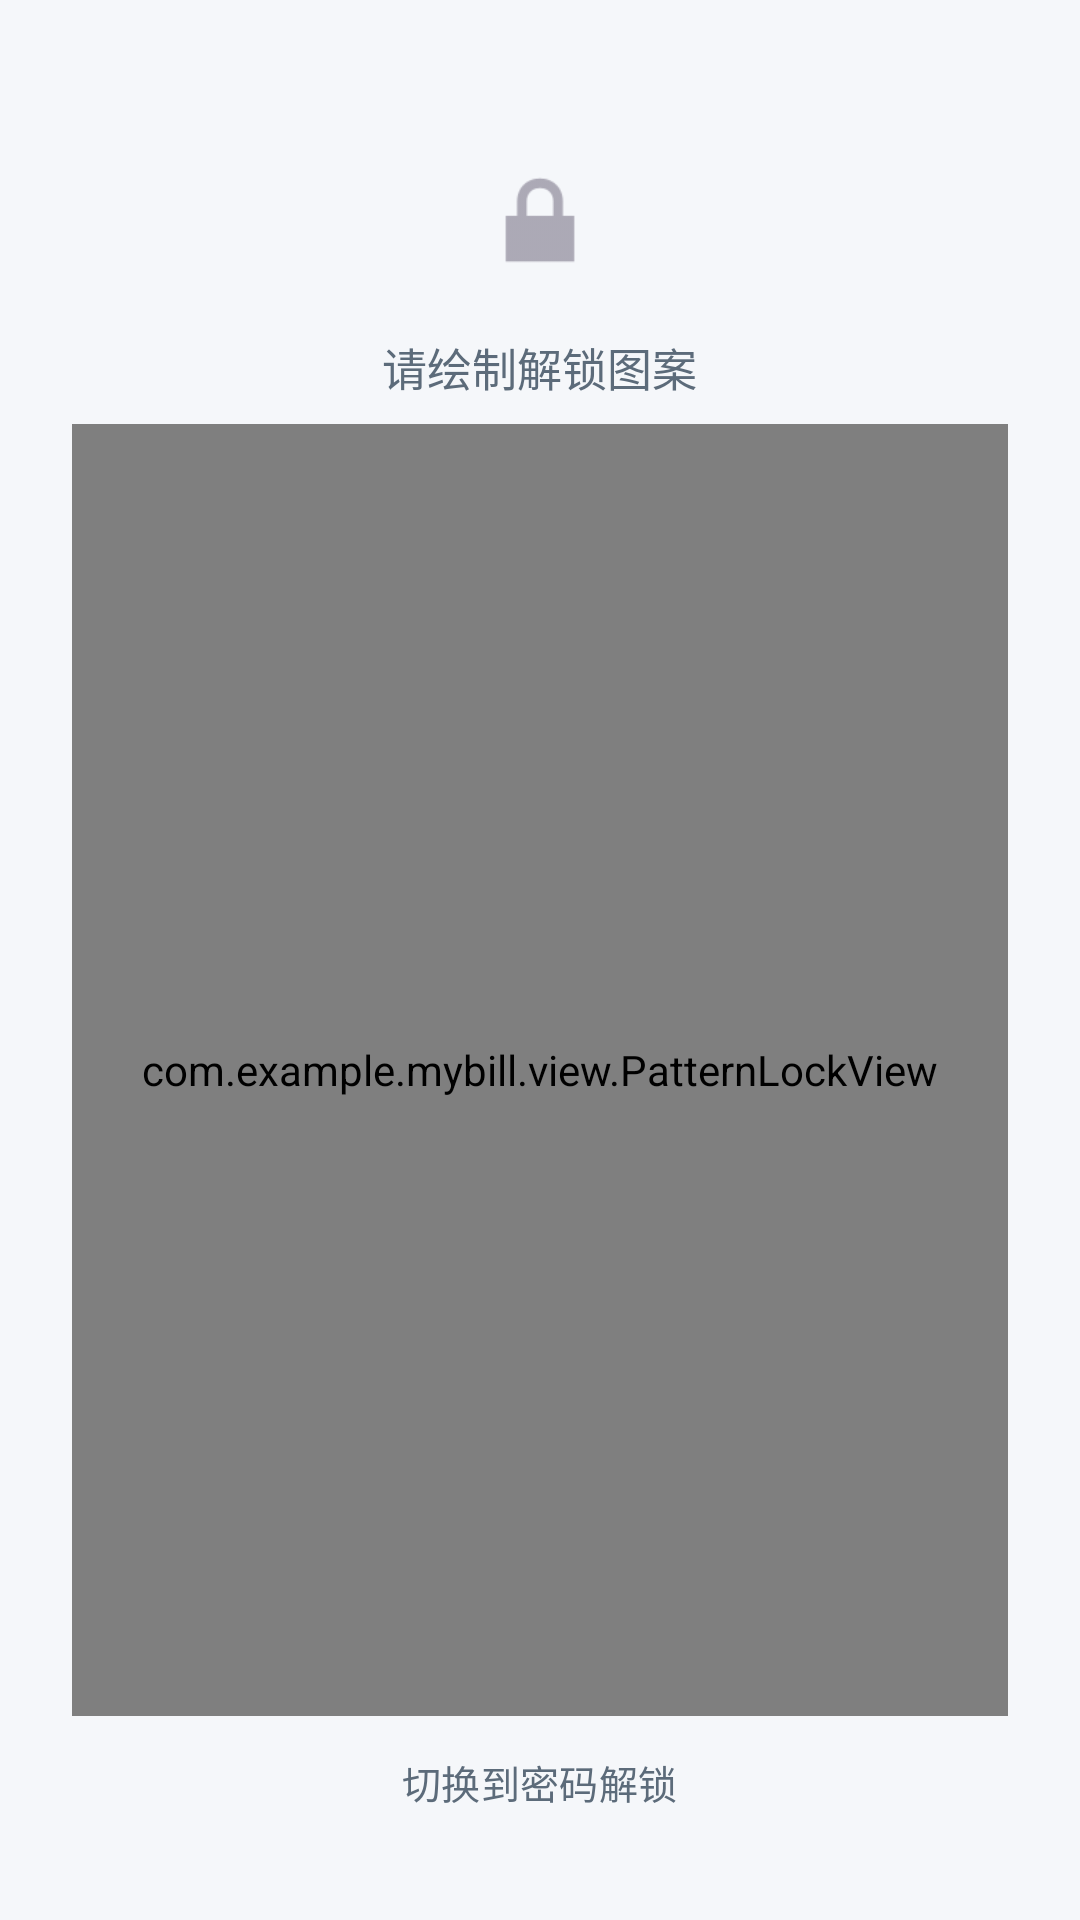

Icon click points for this 1080px×1920px phone screenshot, format [x,y]:
lock: [540,220]
